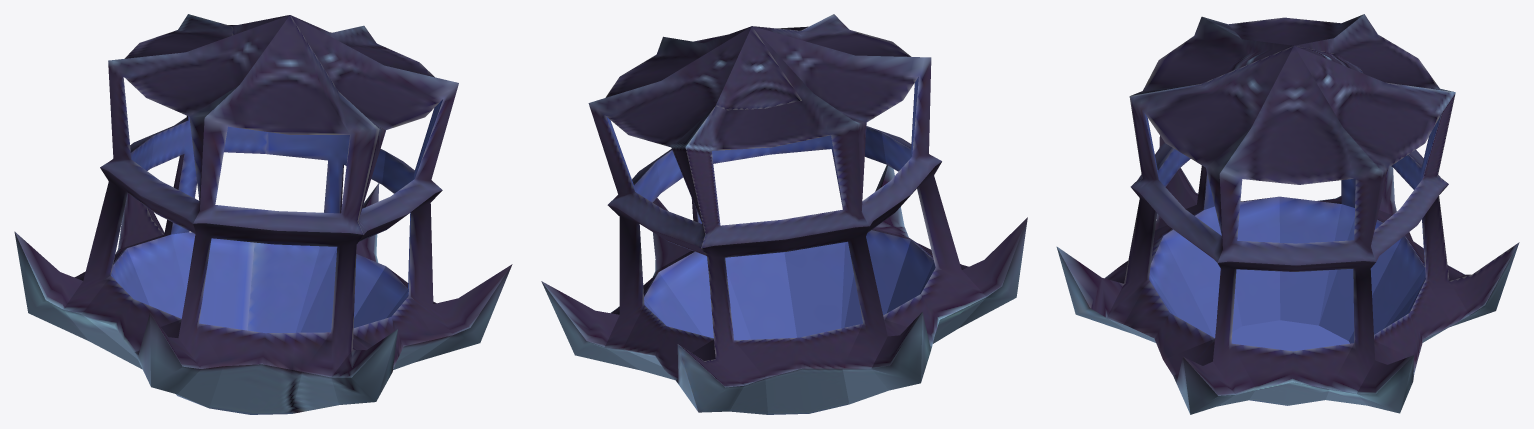
The model's file is Crypt_item_2.fbx.
The picture shows the model from 3 angles, left to right: view 1: azimuth 30°, elevation 25°; view 2: azimuth 150°, elevation 25°; view 3: azimuth 270°, elevation 25°; orthographic projection. The views are drawn at different scales.
Parts seen in each view (by area): view 1: Crypt_item_2; view 2: Crypt_item_2; view 3: Crypt_item_2.
Part boxes in pixels (x1,y1,x2,y2): Crypt_item_2: [14, 14, 512, 414]; Crypt_item_2: [541, 14, 1027, 414]; Crypt_item_2: [1056, 14, 1519, 414].
Bounding box in the file's own units: 2.75 × 2.48 × 2.98.
1 material, 1 textured.
